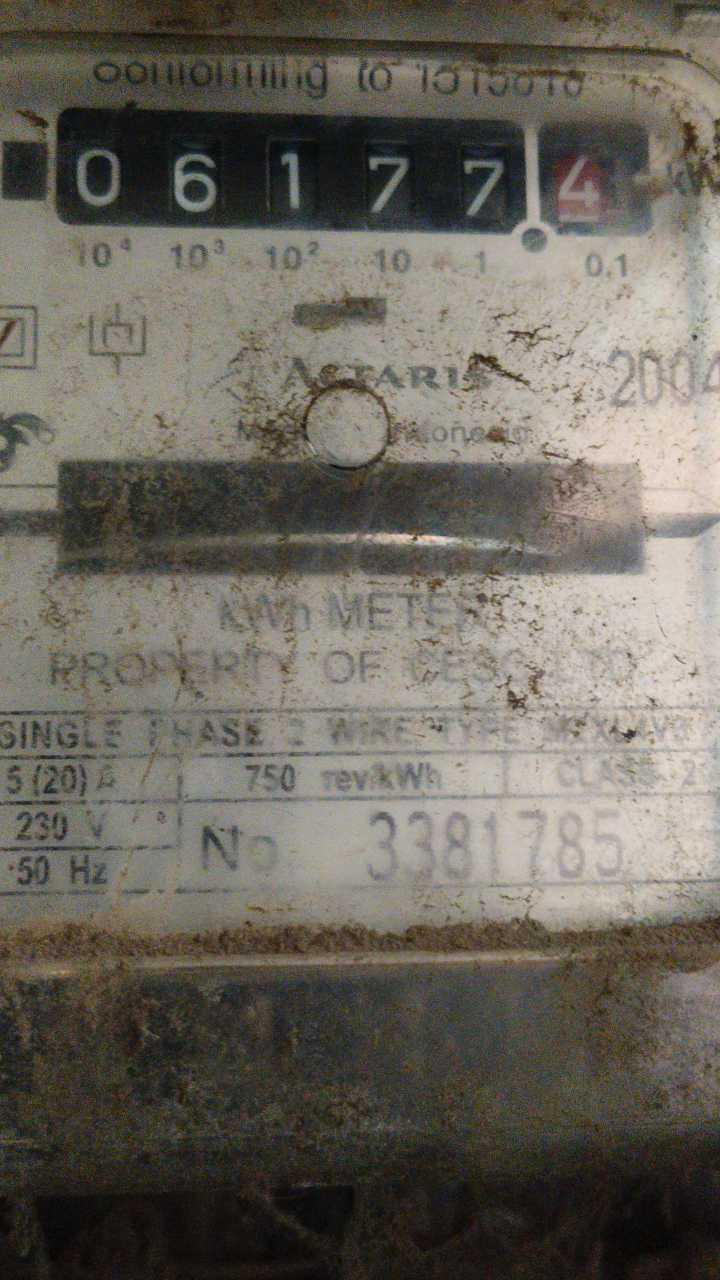meter_readings: (68, 116, 638, 234)
serial_number: (358, 808, 650, 880)
